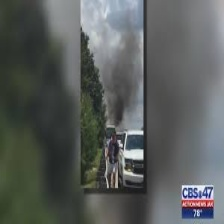smoke: (94, 27, 136, 126)
